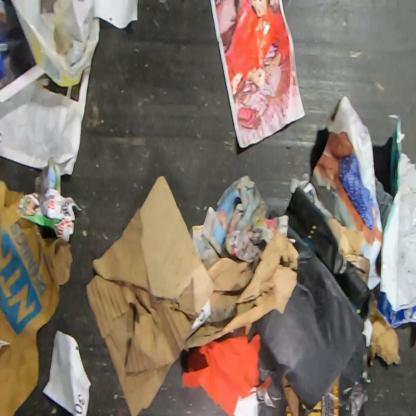cardboard: (84, 175, 298, 416), (0, 180, 73, 415), (368, 298, 401, 367)
soft_plastic: (12, 0, 100, 89), (380, 115, 415, 312)
